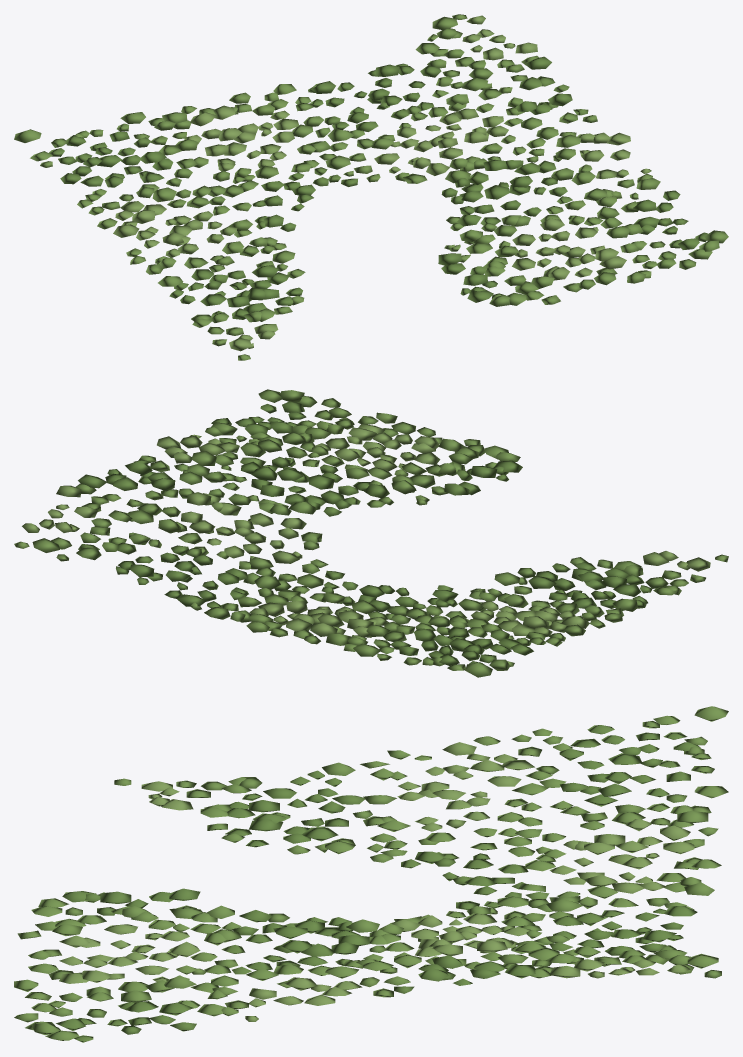
File: canopy-1--5--3.glb
The picture shows the model from 3 angles, top to bottom: view 1: azimuth 30°, elevation 25°; view 2: azimuth 150°, elevation 25°; view 3: azimuth 270°, elevation 25°; orthographic projection. The views are drawn at different scales.
Size of the model in its own units: 518 by 90 by 518.
Materials: 1 (1 with a texture image).
